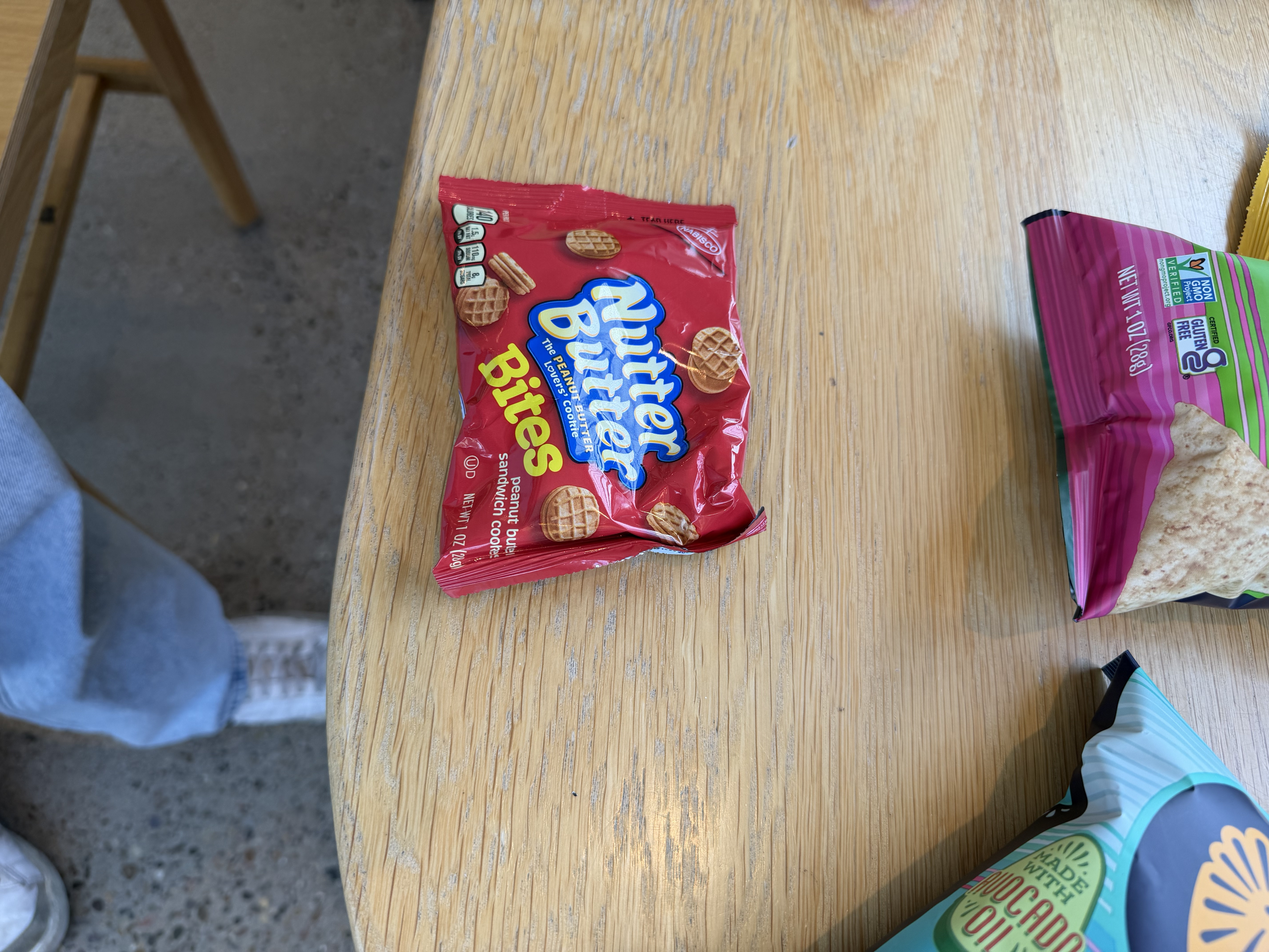nutter_butter: (426, 155, 771, 597)
